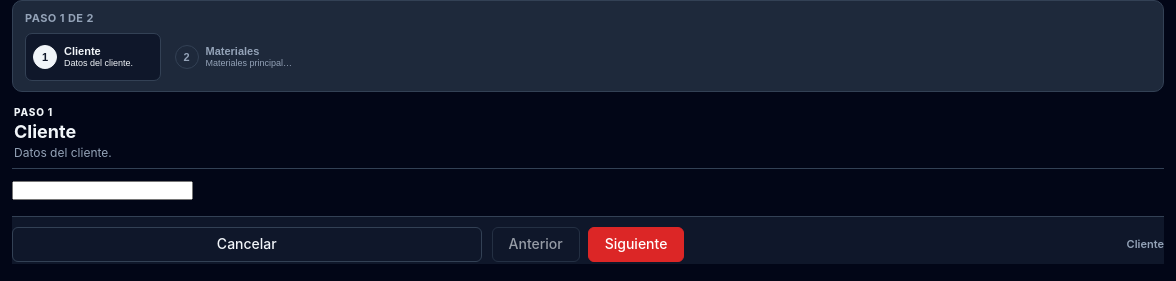
Test case: EntityFormWizard › shows the active step and advances without requiring fields
Expected: the heading "Cliente" is shown, [14,121,76,142]
Click the button "Siguiente" at {"x": 636, "y": 244}, box [588,227,684,262]
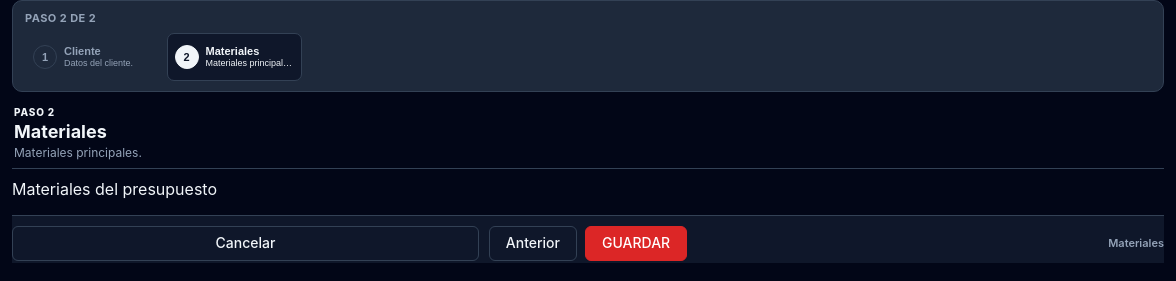
Now the heading "Materiales" is shown, box [14,121,107,142]
Now the text "Paso 2 de 2" is shown, box [25,11,96,25]
